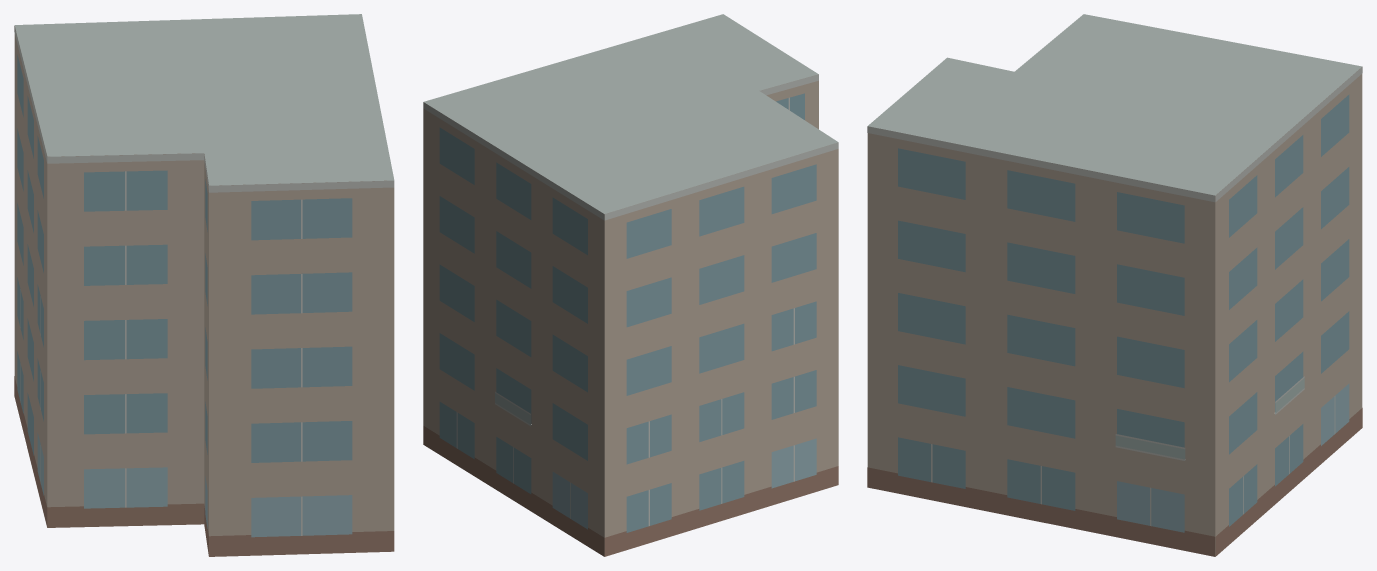
The model's file is survey-upis-32632951.glb.
3 views of the same model, side by side, from view 1: azimuth 30°, elevation 25°; view 2: azimuth 150°, elevation 25°; view 3: azimuth 270°, elevation 25° (orthographic). The views are drawn at different scales.
Visible parts, largest first — view 1: survey-upis-32632951.tmp; view 2: survey-upis-32632951.tmp; view 3: survey-upis-32632951.tmp.
Part boxes in pixels (x1=…): survey-upis-32632951.tmp: x1=14, y1=14, x2=394, y2=556; survey-upis-32632951.tmp: x1=423, y1=14, x2=838, y2=556; survey-upis-32632951.tmp: x1=867, y1=14, x2=1362, y2=556.
Size of the model in its own units: 13.97 by 12.95 by 16.09.
